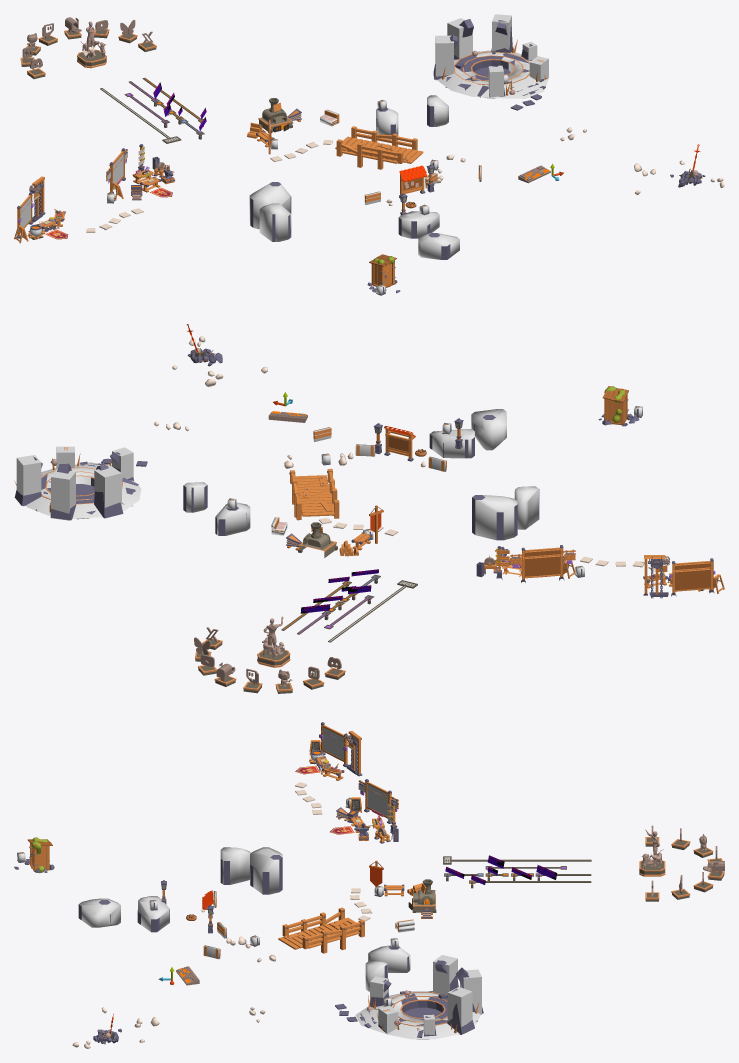
Rendered from scenery.glb.
The picture shows the model from 3 angles, top to bottom: view 1: azimuth 30°, elevation 25°; view 2: azimuth 150°, elevation 25°; view 3: azimuth 270°, elevation 25°; orthographic projection. The views are drawn at different scales.
Visible parts, largest first — view 1: bridge.001, trimesh.001, Cube.159, hull.016, Cylinder.021, hull.015, hull.011, hull.012, Cube.165, Cube.172, Cube.164, Cube.146 (+4 smaller); view 2: bridge.001, trimesh.001, hull.015, Cube.159, Cube.172, hull.011, Cube.164, hull.012, Cube.146, hull.016, Cube.165, hull.014 (+2 smaller); view 3: bridge.001, trimesh.001, hull.015, Cube.159, Cube.172, hull.011, Cylinder.021, hull.016, hull.014, Cube.146, hull.012, Cube.165 (+2 smaller).
Part boxes in pixels (bbox=[...]): bridge.001: bbox=[335, 126, 423, 169]; trimesh.001: bbox=[438, 50, 549, 98]; Cube.159: bbox=[20, 29, 156, 79]; hull.016: bbox=[259, 203, 291, 241]; Cylinder.021: bbox=[454, 53, 545, 95]; hull.015: bbox=[249, 183, 291, 229]; hull.011: bbox=[418, 233, 459, 259]; hull.012: bbox=[399, 211, 439, 238]; Cube.165: bbox=[435, 35, 453, 80]; Cube.172: bbox=[433, 19, 532, 97]; Cube.164: bbox=[447, 18, 472, 58]; Cube.146: bbox=[492, 14, 511, 51]; bridge.001: bbox=[290, 468, 339, 520]; trimesh.001: bbox=[26, 462, 141, 519]; hull.015: bbox=[475, 495, 517, 540]; Cube.159: bbox=[195, 637, 345, 693]; Cube.172: bbox=[14, 452, 133, 520]; hull.011: bbox=[471, 409, 506, 450]; Cube.164: bbox=[51, 469, 75, 520]; hull.012: bbox=[430, 429, 474, 458]; Cube.146: bbox=[16, 455, 41, 506]; hull.016: bbox=[514, 486, 538, 529]; Cube.165: bbox=[94, 466, 121, 518]; hull.014: bbox=[215, 502, 250, 535]; bridge.001: bbox=[278, 907, 364, 953]; trimesh.001: bbox=[355, 991, 480, 1039]; hull.015: bbox=[250, 847, 282, 894]; Cube.159: bbox=[645, 837, 724, 901]; Cube.172: bbox=[370, 960, 483, 1036]; hull.011: bbox=[79, 898, 120, 927]; Cylinder.021: bbox=[360, 993, 447, 1027]; hull.016: bbox=[220, 847, 250, 884]; hull.014: bbox=[368, 945, 410, 972]; Cube.146: bbox=[447, 987, 472, 1034]; hull.012: bbox=[137, 896, 169, 931]; Cube.165: bbox=[433, 955, 457, 995].
Bounding box in the file's own units: 83.84 × 8.2 × 85.35.
Materials: 37 (10 with a texture image).
